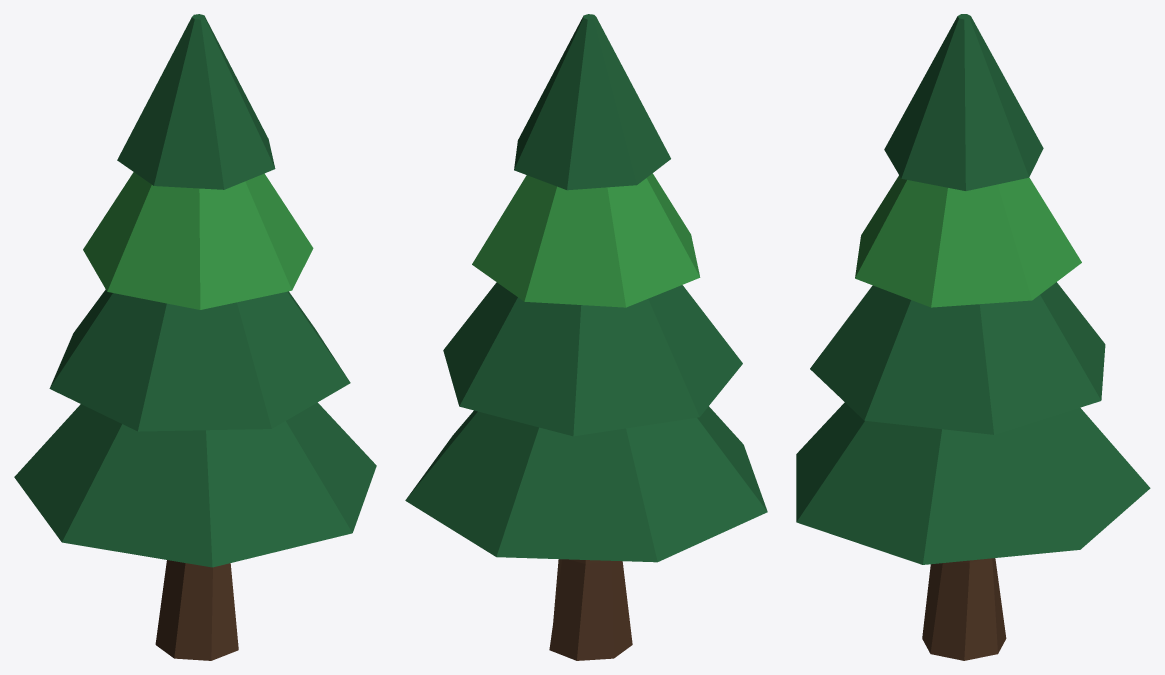
Rendered from EM_PineTree_Tall.glb.
The picture shows the model from 3 angles, left to right: view 1: azimuth 30°, elevation 25°; view 2: azimuth 150°, elevation 25°; view 3: azimuth 270°, elevation 25°; orthographic projection.
Parts seen in each view (by area): view 1: EM_PineTree_Tall__LeafPine, EM_PineTree_Tall__LeafOak, EM_PineTree_Tall__BarkOak; view 2: EM_PineTree_Tall__LeafPine, EM_PineTree_Tall__LeafOak, EM_PineTree_Tall__BarkOak; view 3: EM_PineTree_Tall__LeafPine, EM_PineTree_Tall__LeafOak, EM_PineTree_Tall__BarkOak.
Boxes of the visible parts, x1,y1,x2,y2 form: EM_PineTree_Tall__LeafPine: (14, 14, 376, 567); EM_PineTree_Tall__LeafOak: (83, 172, 313, 309); EM_PineTree_Tall__BarkOak: (155, 560, 238, 660); EM_PineTree_Tall__LeafPine: (405, 14, 767, 562); EM_PineTree_Tall__LeafOak: (472, 173, 700, 307); EM_PineTree_Tall__BarkOak: (549, 559, 632, 660); EM_PineTree_Tall__LeafPine: (796, 14, 1150, 564); EM_PineTree_Tall__LeafOak: (855, 175, 1081, 307); EM_PineTree_Tall__BarkOak: (922, 558, 1006, 660).
Size of the model in its own units: 15.99 by 30.4 by 15.59.
